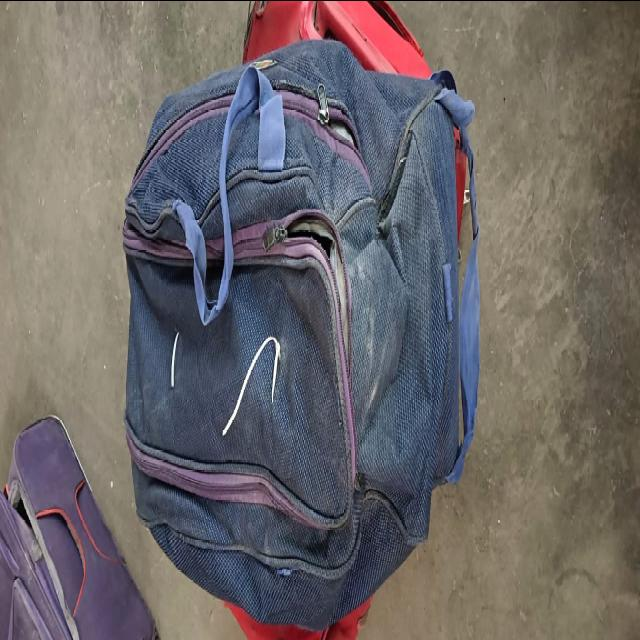Damage-bag: (250, 207, 350, 351), (281, 87, 369, 218), (380, 123, 411, 276), (5, 429, 41, 551)
